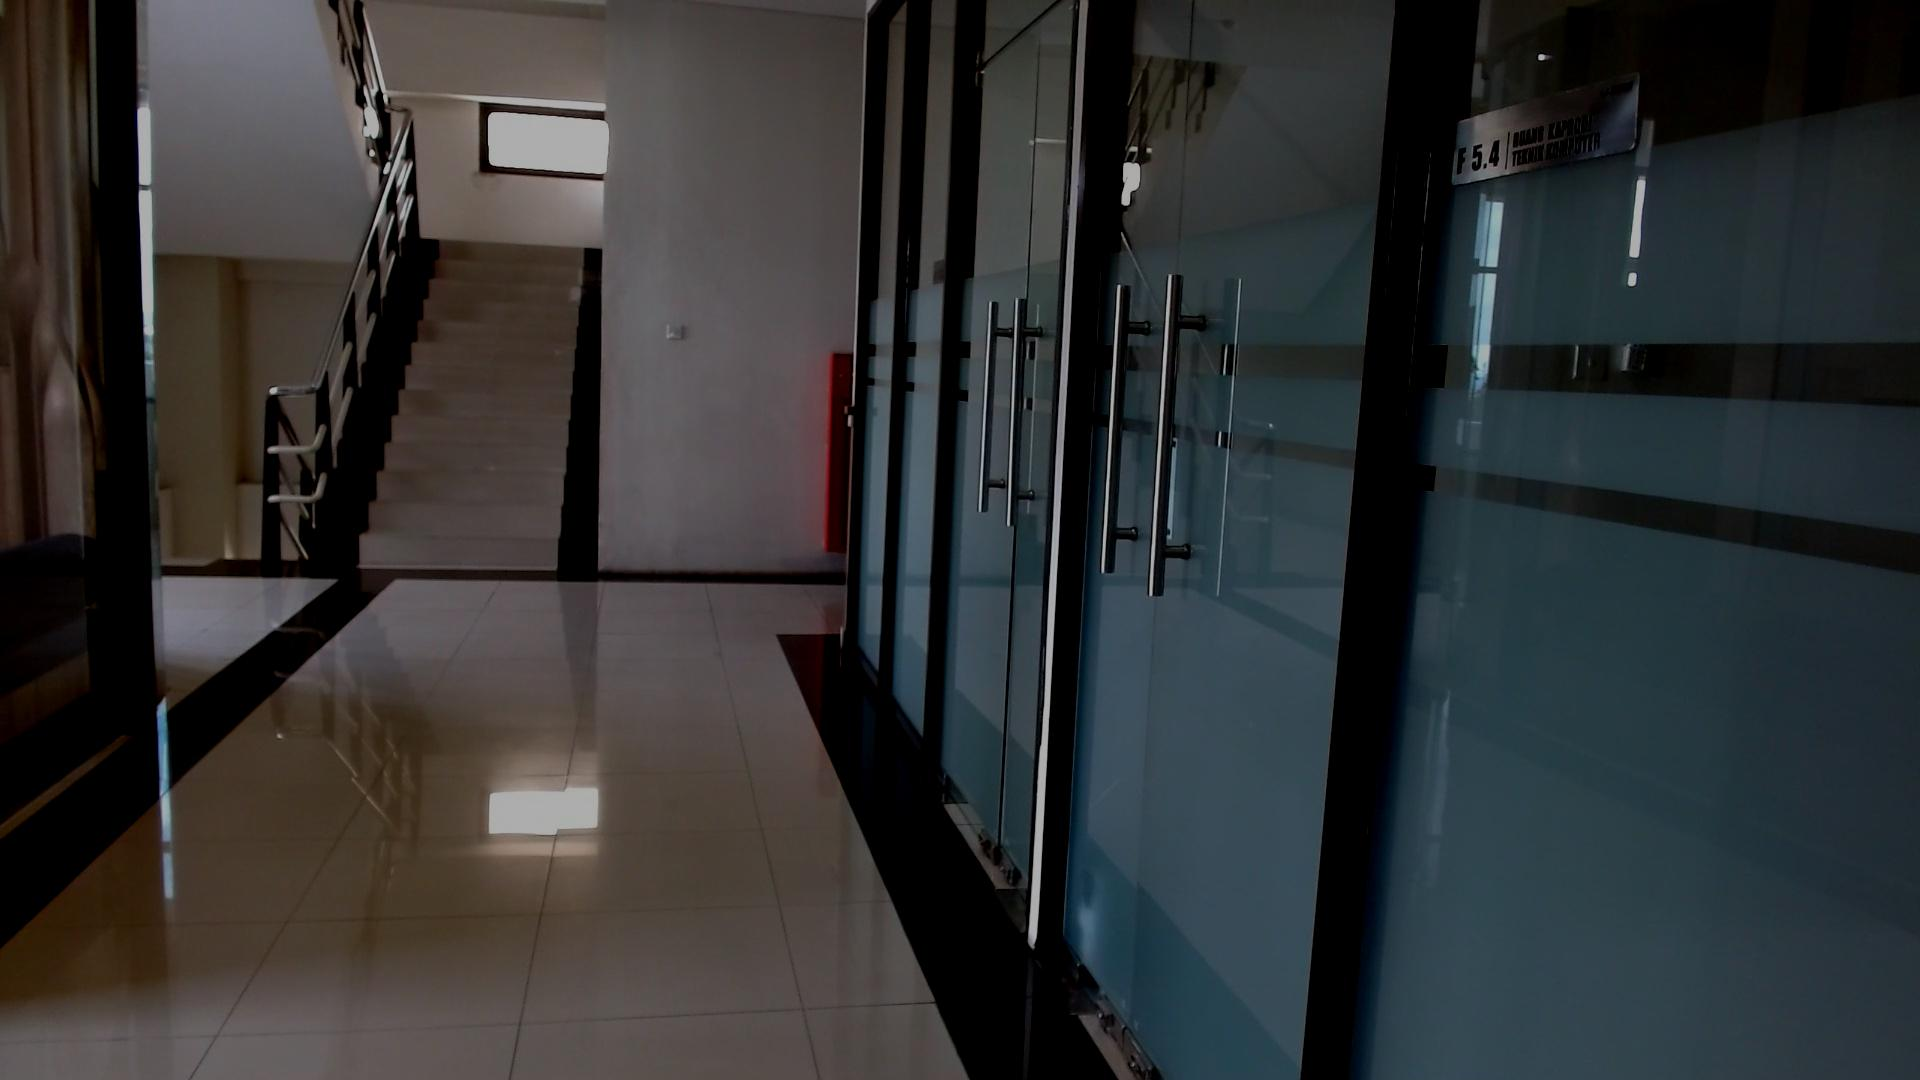plate: (1449, 70, 1642, 189)
